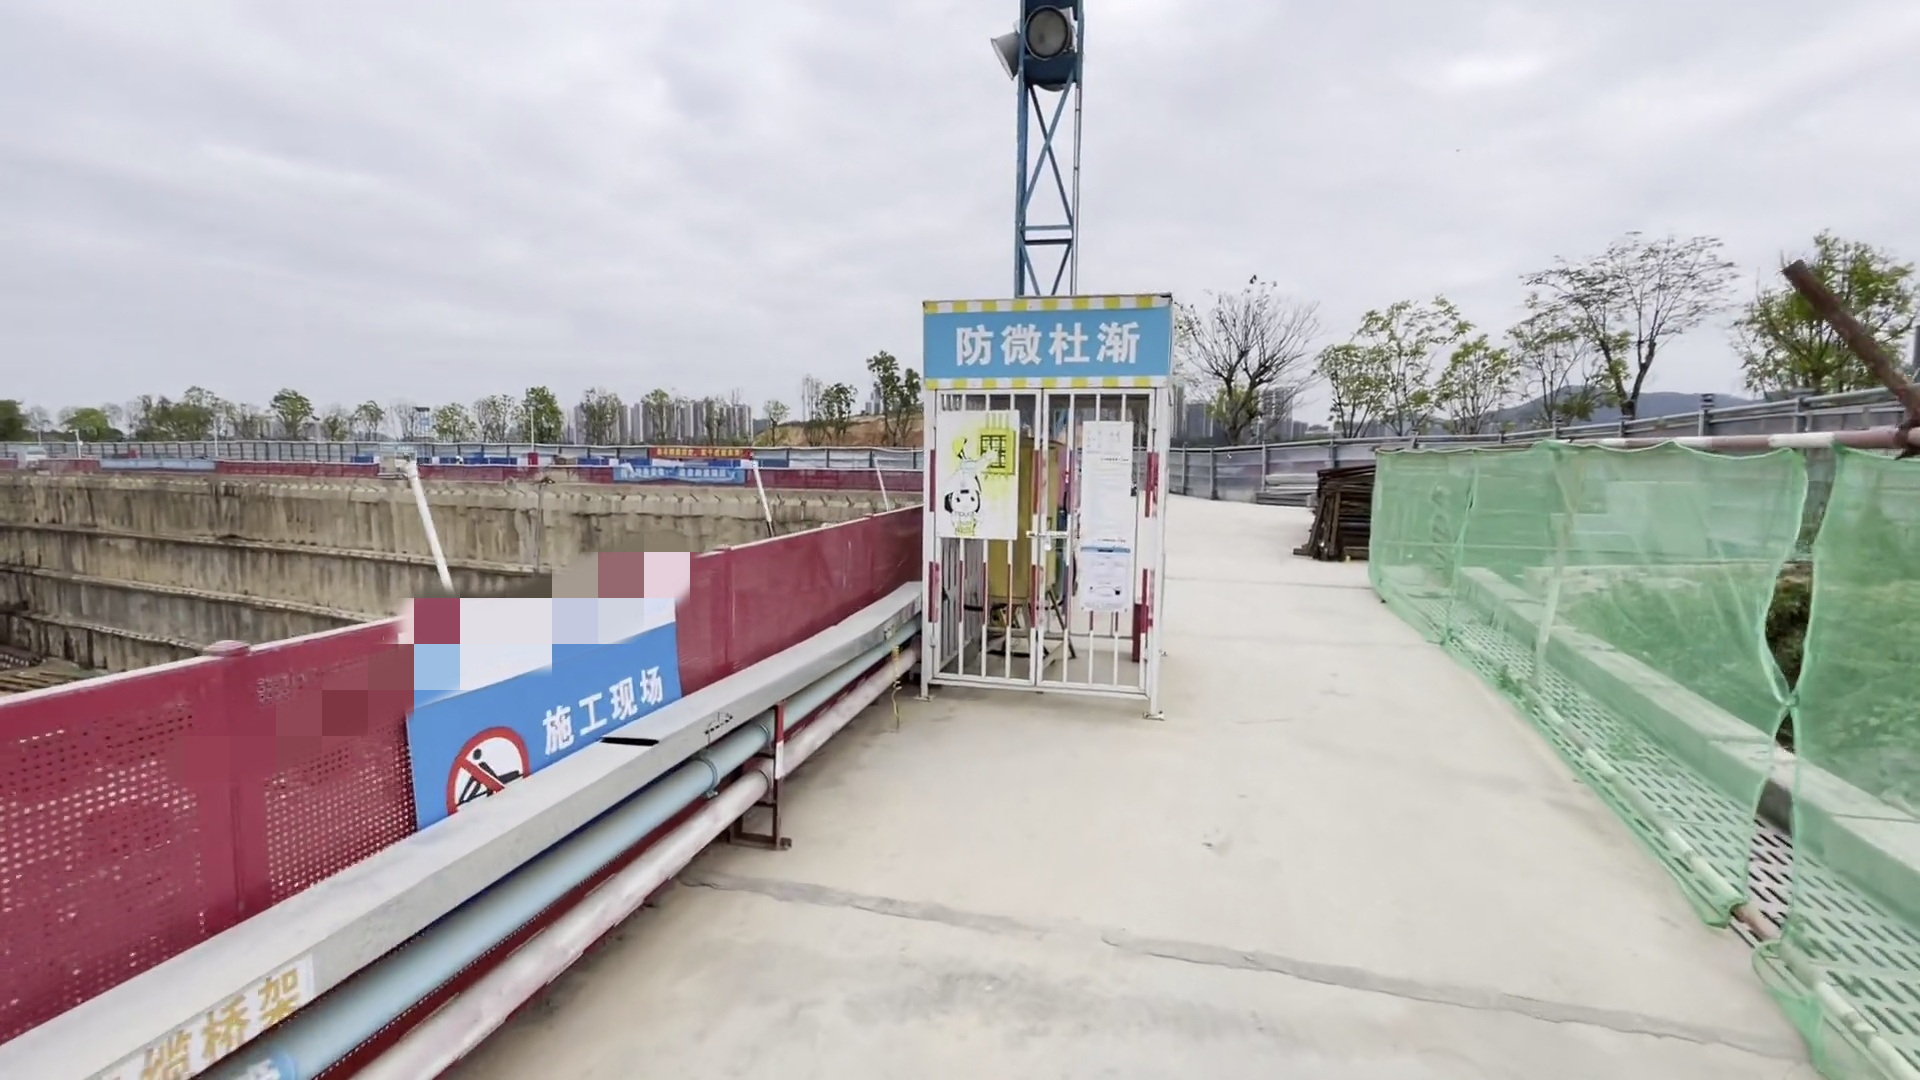fence: (1, 509, 919, 1051)
slogan: (934, 313, 1135, 372), (525, 676, 704, 727), (626, 433, 765, 491)
